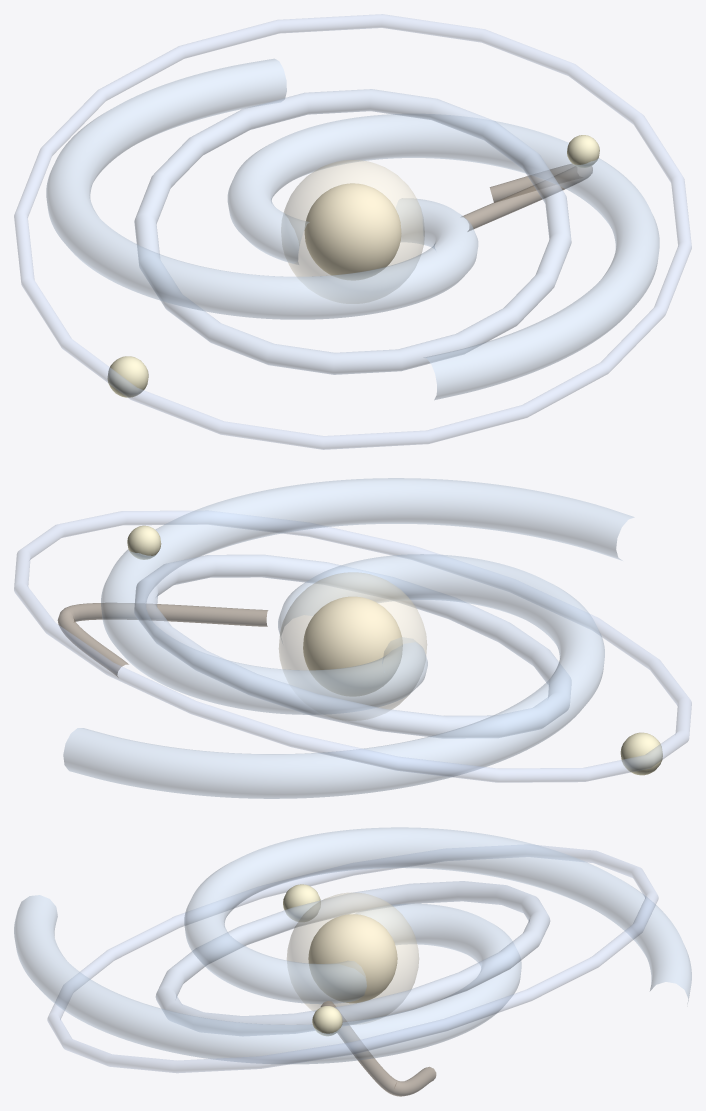
Rendered from galaxy.glb.
The picture shows the model from 3 angles, top to bottom: view 1: azimuth 30°, elevation 25°; view 2: azimuth 150°, elevation 25°; view 3: azimuth 270°, elevation 25°; orthographic projection. The views are drawn at different scales.
Visible parts, largest first — view 1: spiral_arm_2, spiral_arm_1, galactic_disk, galactic_disk_outer, galactic_nucleus_bulge, galactic_core, dust_lane_1, star_cluster_2, star_cluster_1; view 2: spiral_arm_2, spiral_arm_1, galactic_disk, galactic_disk_outer, galactic_nucleus_bulge, galactic_core, dust_lane_1, star_cluster_2, star_cluster_1; view 3: spiral_arm_1, spiral_arm_2, galactic_disk_outer, galactic_disk, galactic_nucleus_bulge, galactic_core, dust_lane_1, star_cluster_2, star_cluster_1.
Boxes of the visible parts, left/top/right/bottom form: spiral_arm_2: left=227, top=114, right=659, bottom=400; spiral_arm_1: left=46, top=58, right=478, bottom=319; galactic_disk: left=134, top=89, right=571, bottom=374; galactic_disk_outer: left=14, top=14, right=691, bottom=449; galactic_nucleus_bulge: left=281, top=160, right=424, bottom=303; galactic_core: left=304, top=183, right=401, bottom=280; dust_lane_1: left=461, top=164, right=592, bottom=231; star_cluster_2: left=107, top=356, right=148, bottom=397; star_cluster_1: left=567, top=135, right=599, bottom=167; spiral_arm_2: left=101, top=478, right=634, bottom=714; spiral_arm_1: left=63, top=554, right=604, bottom=798; galactic_disk: left=134, top=554, right=571, bottom=738; galactic_disk_outer: left=14, top=511, right=691, bottom=782; galactic_nucleus_bulge: left=279, top=572, right=426, bottom=720; galactic_core: left=303, top=596, right=402, bottom=696; dust_lane_1: left=57, top=603, right=268, bottom=677; star_cluster_2: left=620, top=732, right=662, bottom=775; star_cluster_1: left=127, top=525, right=161, bottom=559; spiral_arm_1: left=184, top=827, right=691, bottom=1003; spiral_arm_2: left=14, top=895, right=521, bottom=1064; galactic_disk_outer: left=47, top=845, right=658, bottom=1072; galactic_disk: left=155, top=881, right=550, bottom=1036; galactic_nucleus_bulge: left=287, top=893, right=418, bottom=1024; galactic_core: left=308, top=914, right=397, bottom=1003; dust_lane_1: left=320, top=1001, right=436, bottom=1096; star_cluster_2: left=283, top=884, right=320, bottom=921; star_cluster_1: left=312, top=1006, right=342, bottom=1036.
Bounding box in the file's own units: 1.33 × 0.3543 × 1.45.
